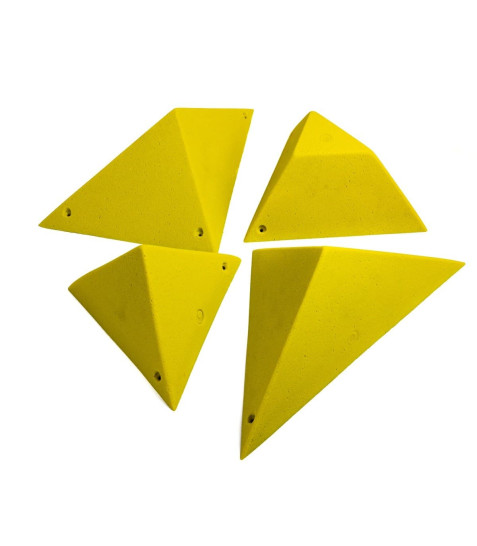volume: (237, 245, 461, 457), (38, 107, 250, 250), (68, 244, 239, 407), (243, 110, 424, 240)
